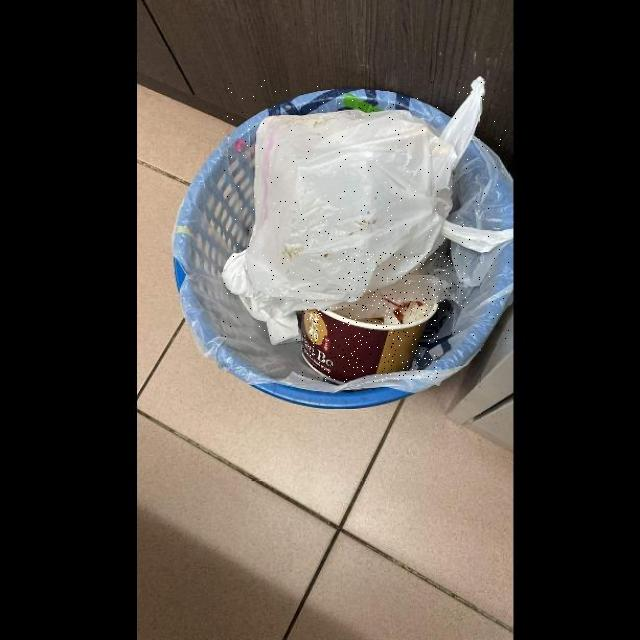paper: (302, 301, 439, 382)
plastic: (224, 81, 509, 344), (338, 251, 466, 316)
